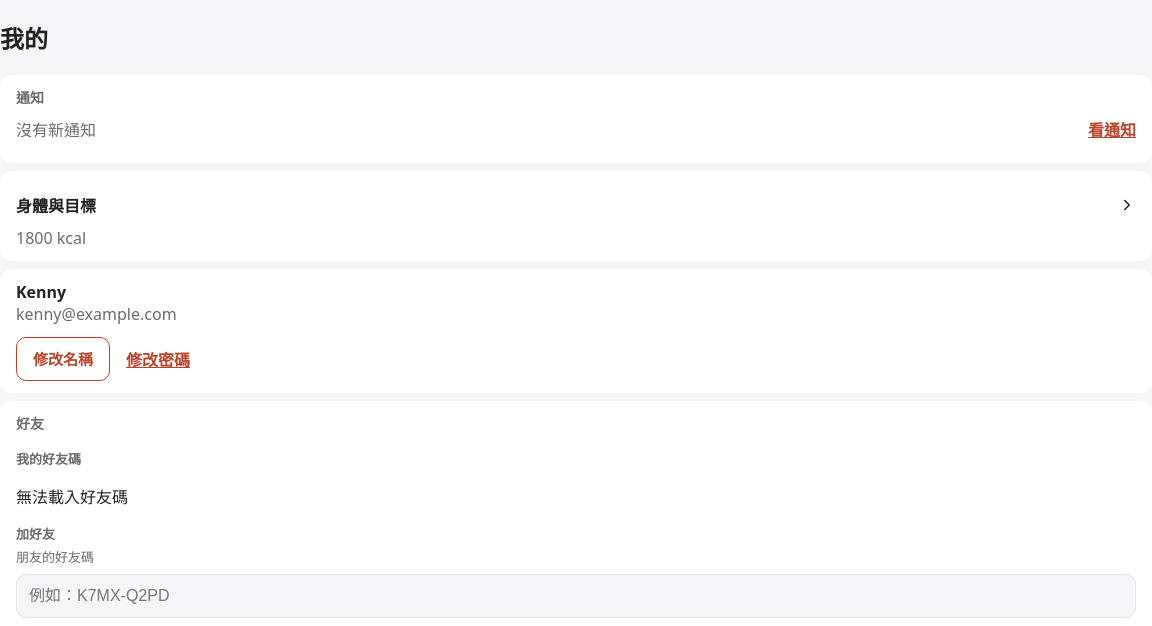
Test: 我的：帳號卡片 › 後端 422 顯示欄位訊息，表單留著
Click the button "修改名稱" at (63, 359), box [16, 337, 110, 381]
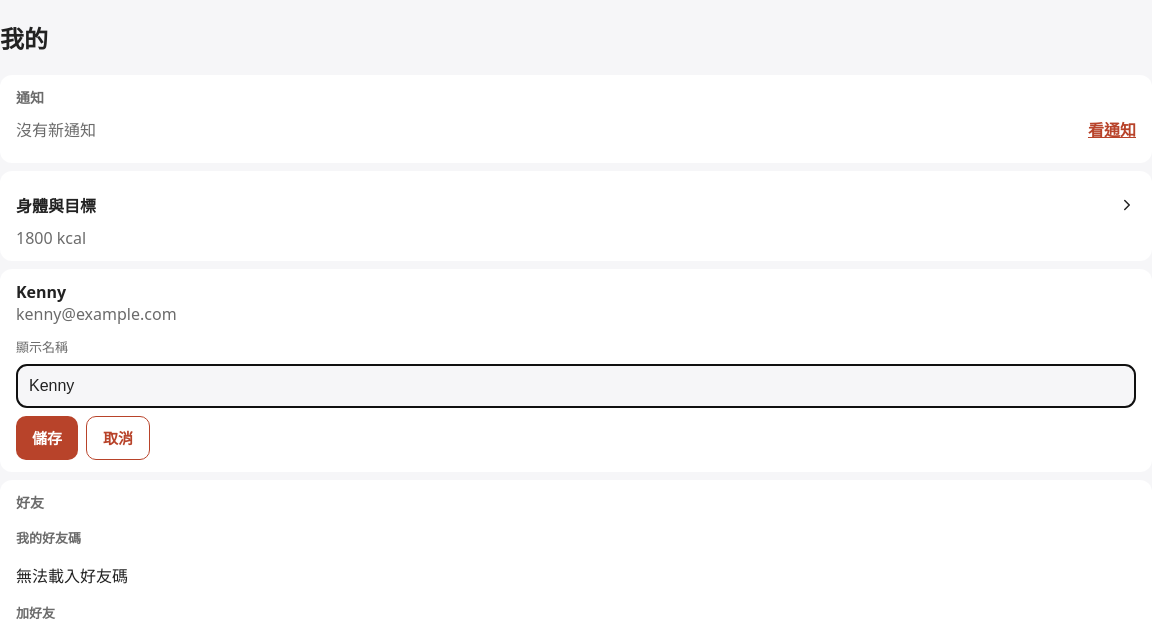
Type "很長" into the field labelled "顯示名稱" at (576, 386), box [16, 364, 1136, 408]
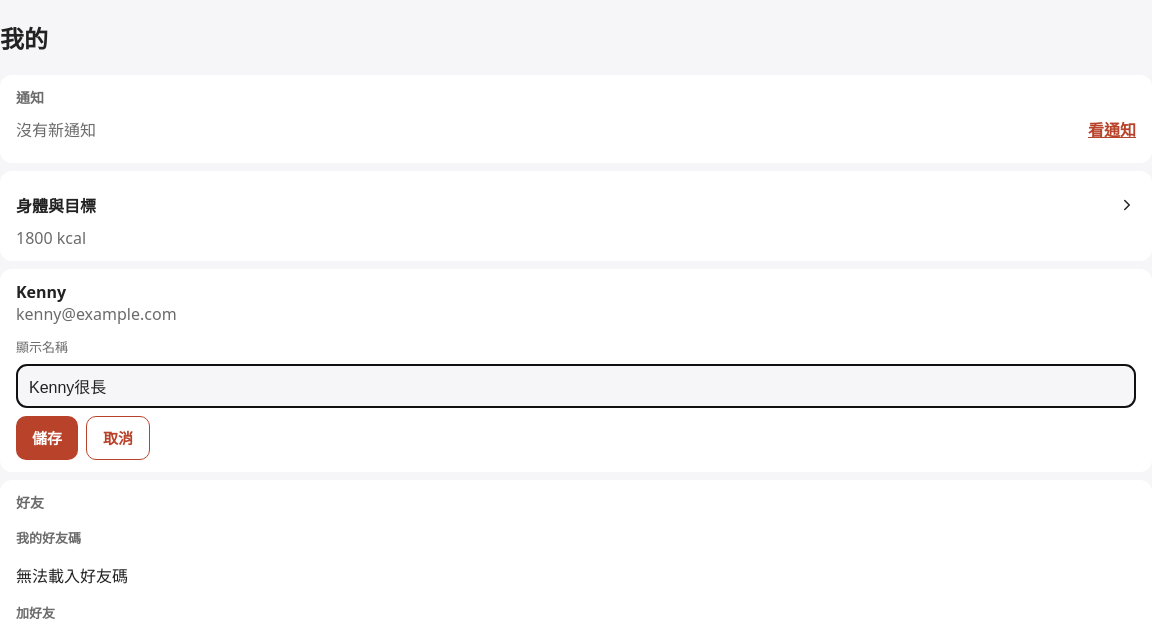
Click the button "儲存" at (47, 438), box [16, 416, 78, 460]
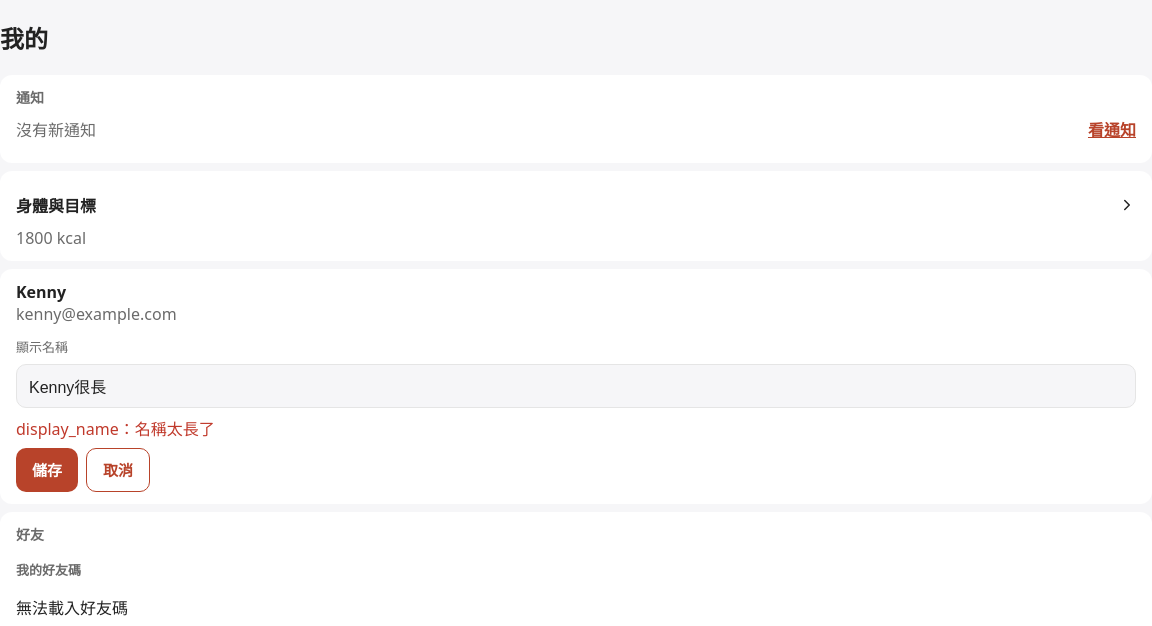
Check: the field labelled "顯示名稱" is shown, box [16, 364, 1136, 408]
Check: the message shows "名稱太長了", box [16, 418, 215, 440]
